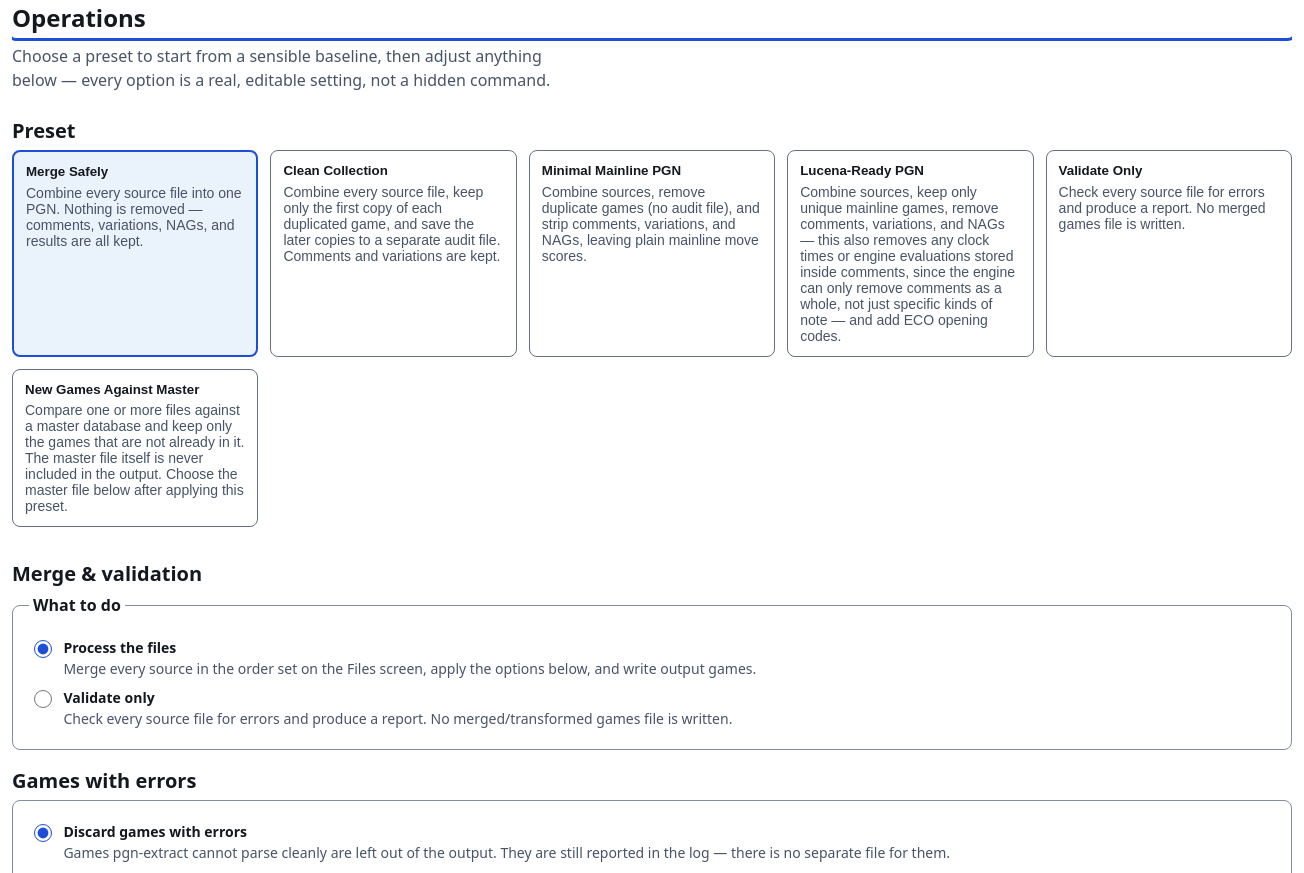
Test: OperationsScreen › applying a preset updates the visible controls
Click the button "Minimal Mainline PGN".
click(652, 253)  # box top-left (529, 150), bottom-right (775, 357)
(page scrolled)
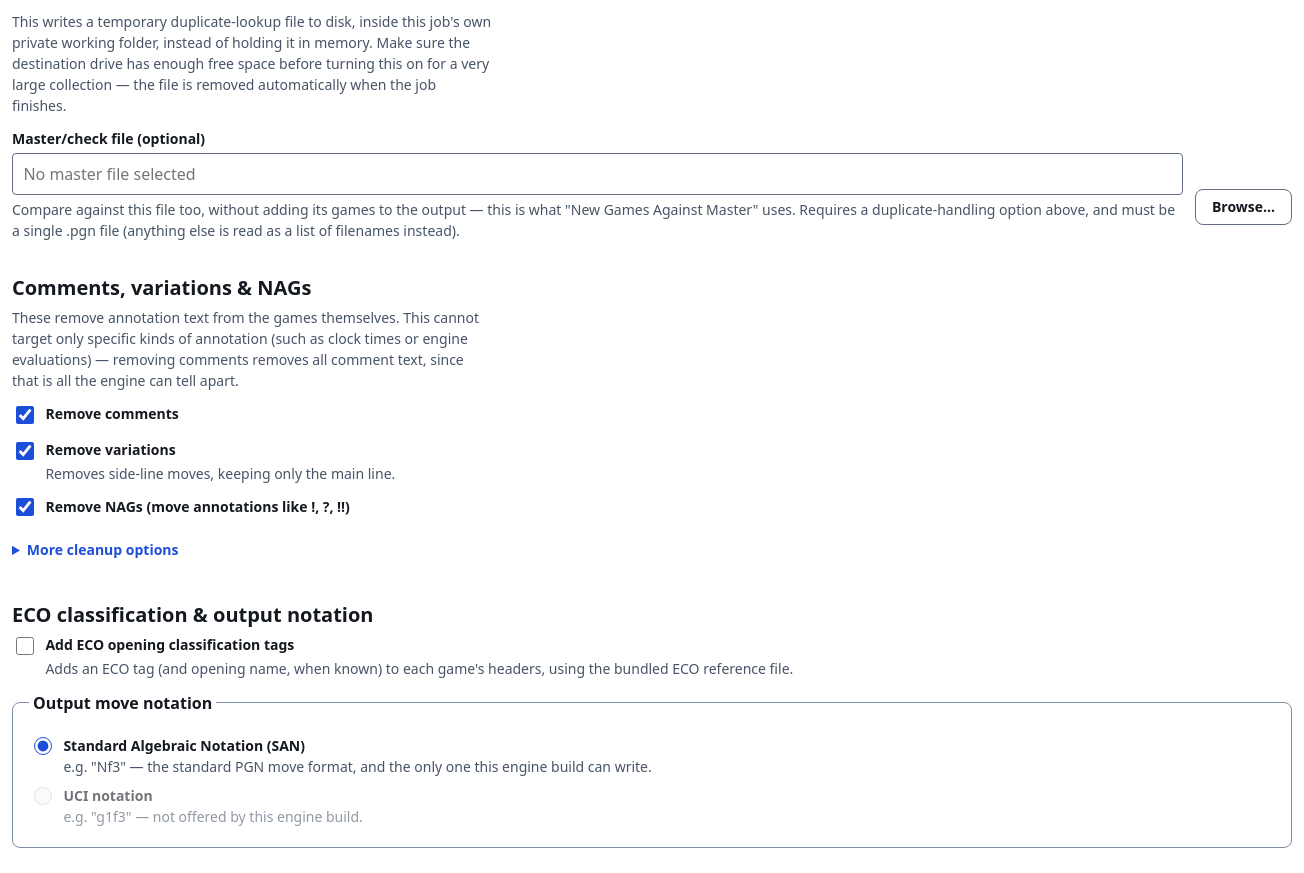
Check: the checkbox labelled "Remove comments" is checked, box top-left (16, 406), bottom-right (34, 424)
Check: the checkbox labelled "Remove variations" is checked, box top-left (16, 442), bottom-right (34, 460)
